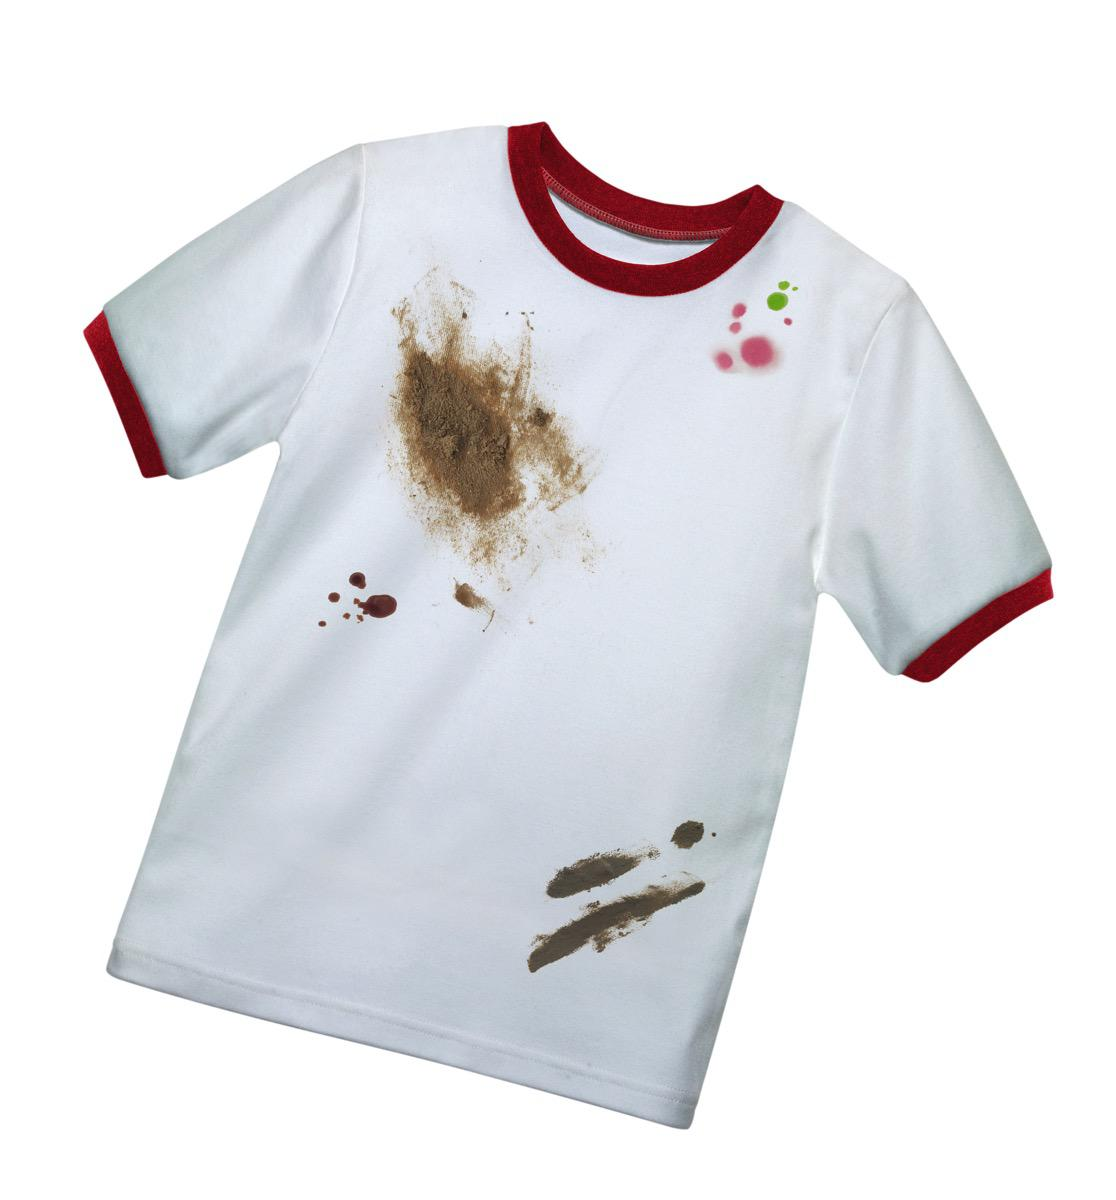gun: (378, 255, 563, 580), (521, 836, 736, 967), (712, 291, 801, 401), (322, 547, 393, 627)
